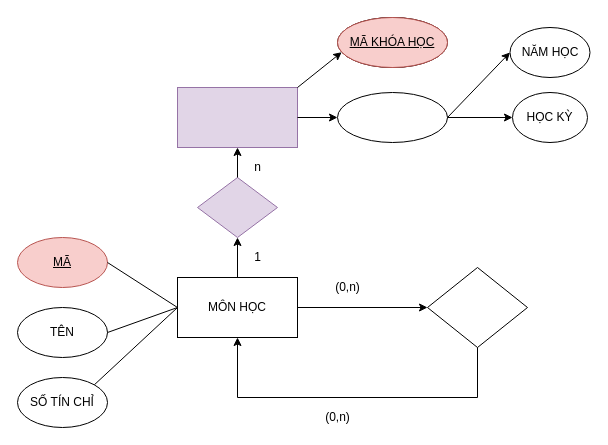
Some shapes in this 608 by 445 pixel diagram are drawn without their labels. The centre of each missing label's shape, as x and y in pixels:
"CHỨA" belongs at [237,207].
"KHÓA HỌC" belongs at [237,117].
"SỐ HỌC KỲ" belongs at [392,117].
"TIÊN QUYẾT" belongs at [477,307].
